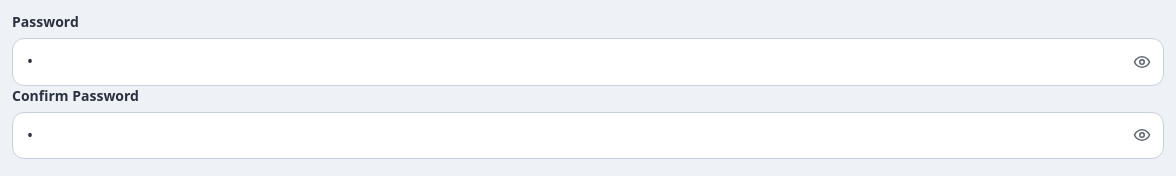
Test: PasswordInput › toggles two instances on the same form completely independently
The width and height of the screenshot is (1176, 176).
Click the 1st button named "Show password" at coordinates (1142, 62), box [1120, 38, 1164, 86]
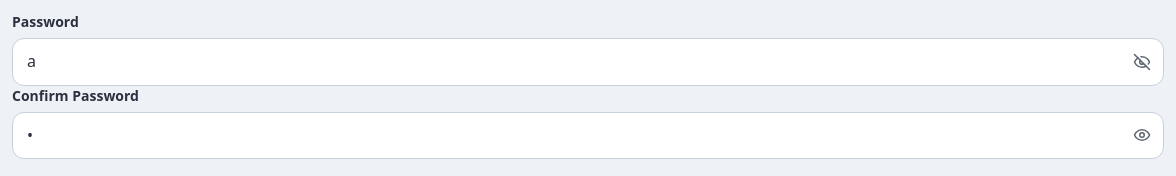
Expected: the field labelled "Password" shows its text, [12, 38, 1164, 86]
Click the button named "Show password" at coordinates (1142, 135), box [1120, 112, 1164, 159]
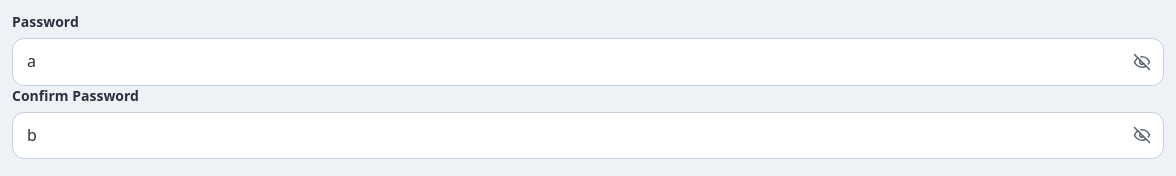
Expected: the field labelled "Confirm Password" shows its text, [12, 112, 1164, 159]
